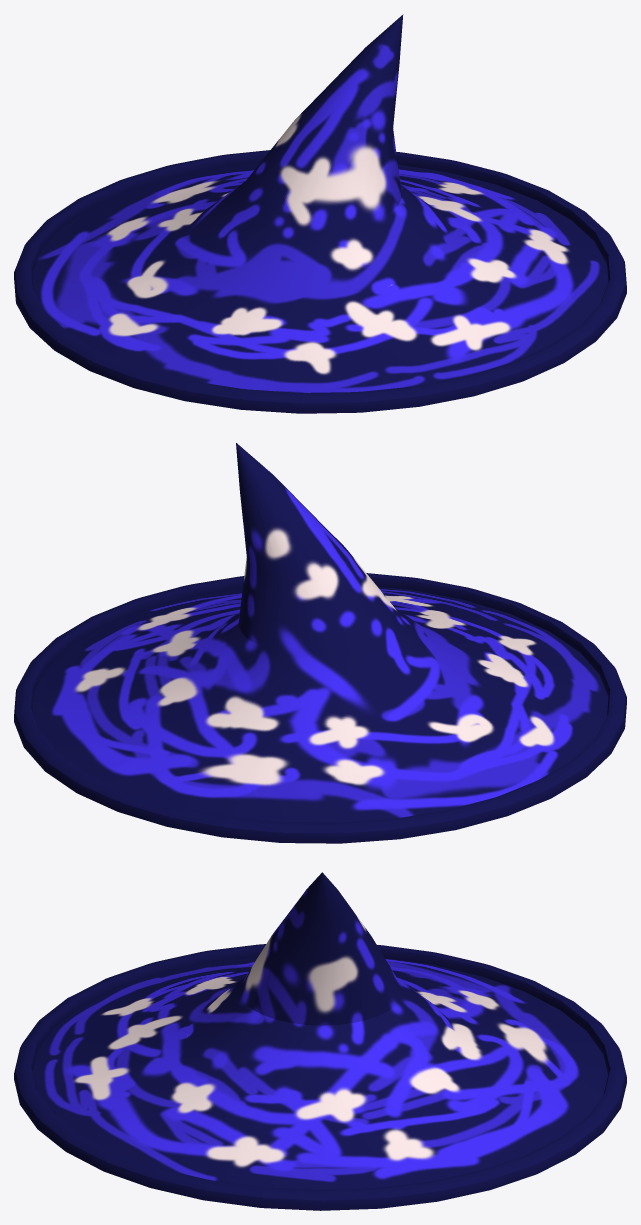
The model's file is SombreroBruja1.fbx.
3 views of the same model, one above another, from view 1: azimuth 30°, elevation 25°; view 2: azimuth 150°, elevation 25°; view 3: azimuth 270°, elevation 25° (orthographic).
Parts seen in each view (by area): view 1: Circle.001; view 2: Circle.001; view 3: Circle.001.
Boxes of the visible parts, bbox=[...] form: Circle.001: bbox=[14, 14, 626, 413]; Circle.001: bbox=[14, 443, 626, 843]; Circle.001: bbox=[14, 872, 626, 1210].
Bounding box in the file's own units: 287 × 130 × 287.
Materials: 1 (1 with a texture image).
